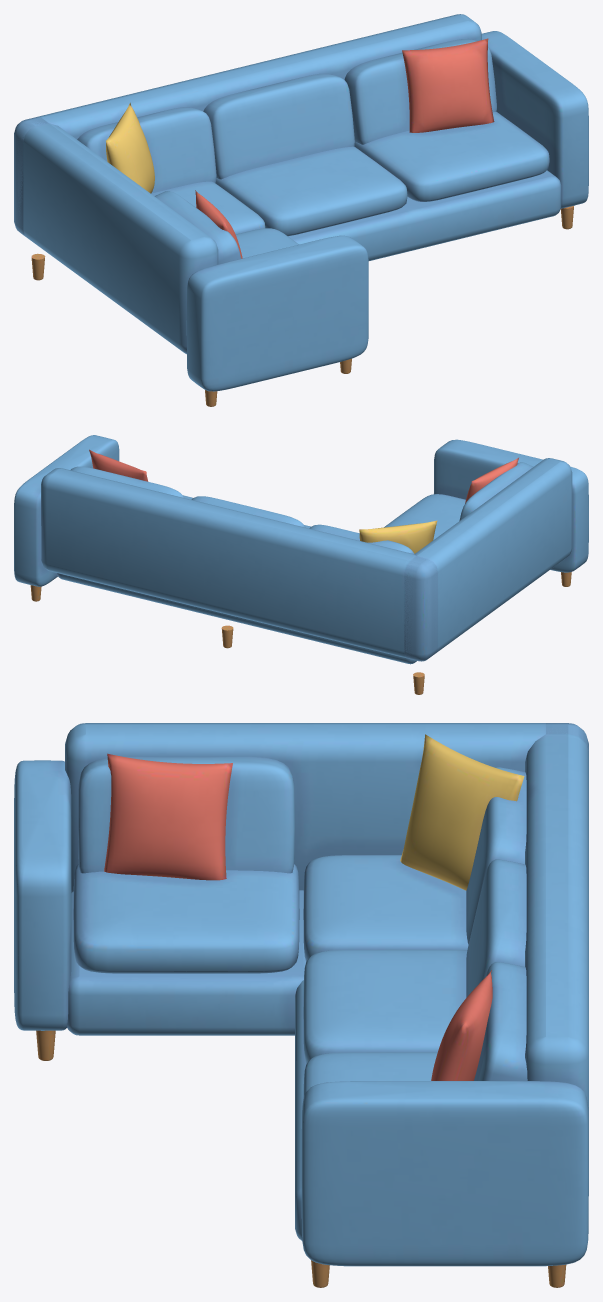
The model's file is corner-sofa.glb.
The picture shows the model from 3 angles, top to bottom: view 1: azimuth 30°, elevation 25°; view 2: azimuth 150°, elevation 25°; view 3: azimuth 270°, elevation 25°; orthographic projection. The views are drawn at different scales.
Visible parts, largest first — view 1: corner-sofa_body; view 2: corner-sofa_body; view 3: corner-sofa_body.
Boxes of the visible parts, bbox=[...] form: corner-sofa_body: bbox=[14, 14, 588, 406]; corner-sofa_body: bbox=[14, 435, 588, 694]; corner-sofa_body: bbox=[14, 723, 588, 1287].
Bounding box in the file's own units: 2.6 × 0.8415 × 1.8.
1 material, 1 textured.
